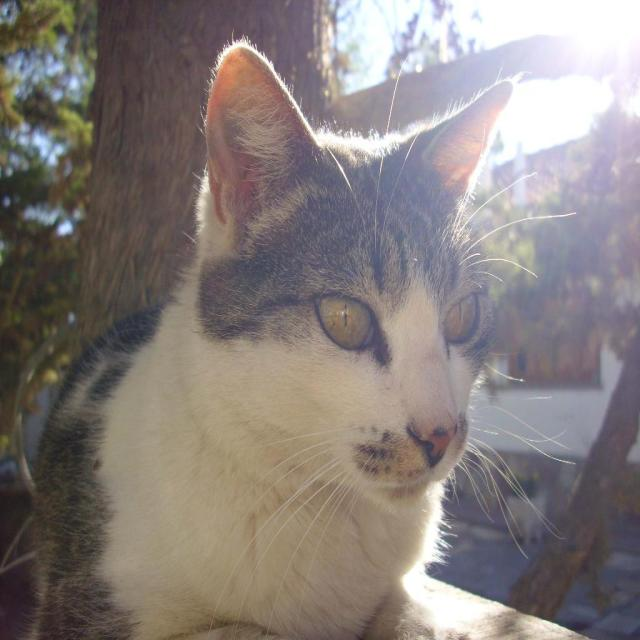Cat: (17, 29, 577, 638)
